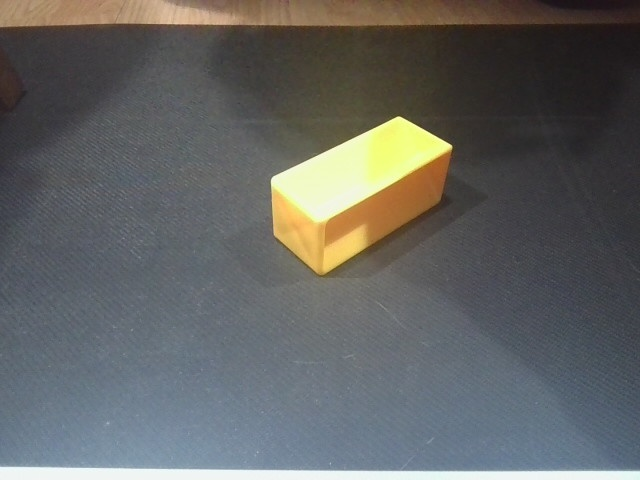YellowSample: (265, 113, 455, 279)
